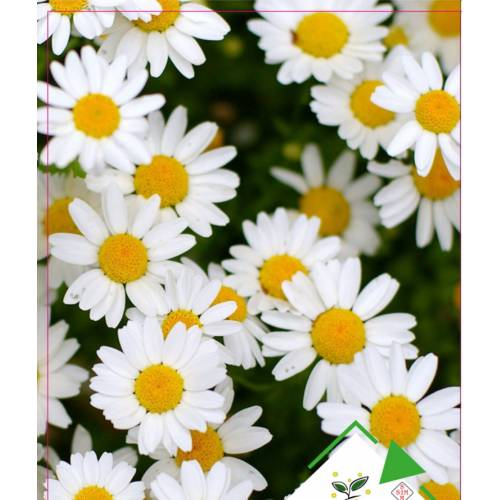papatya: (92, 315, 249, 457)
